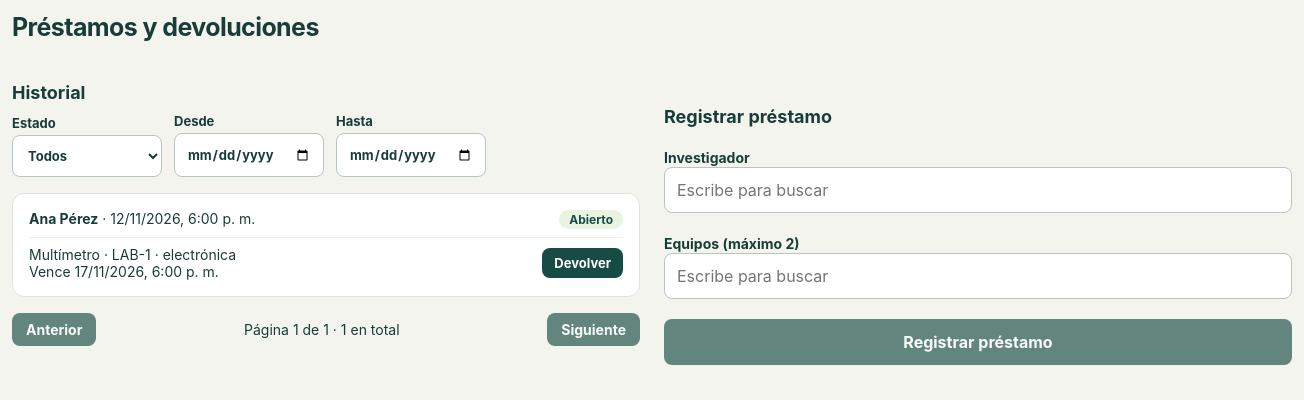
Test: explains a second return attempt (409) and reloads the list
Click the button with aria-label "Devolver Multímetro" at (583, 263), box [542,248,623,278]
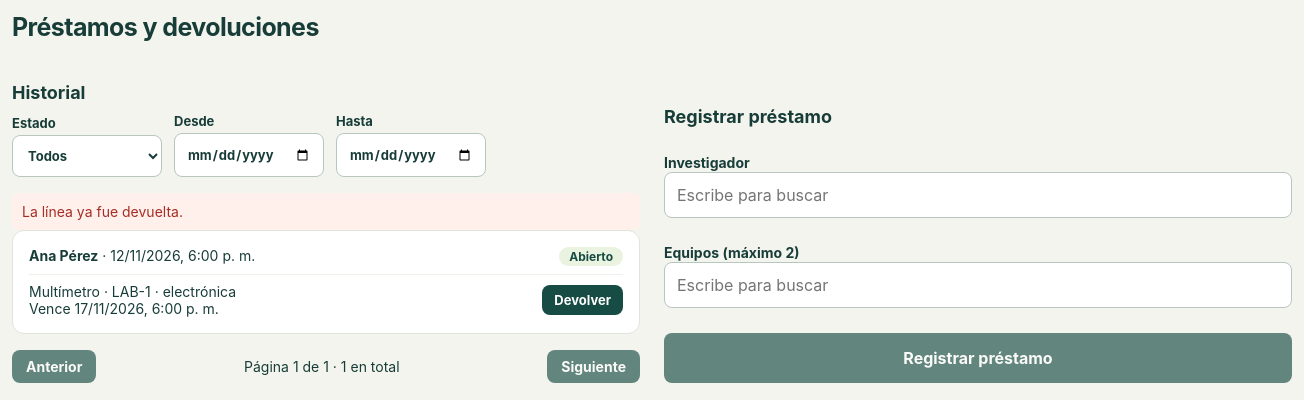
Expected: the message reads "La línea ya fue devuelta.", [22,203,183,220]
